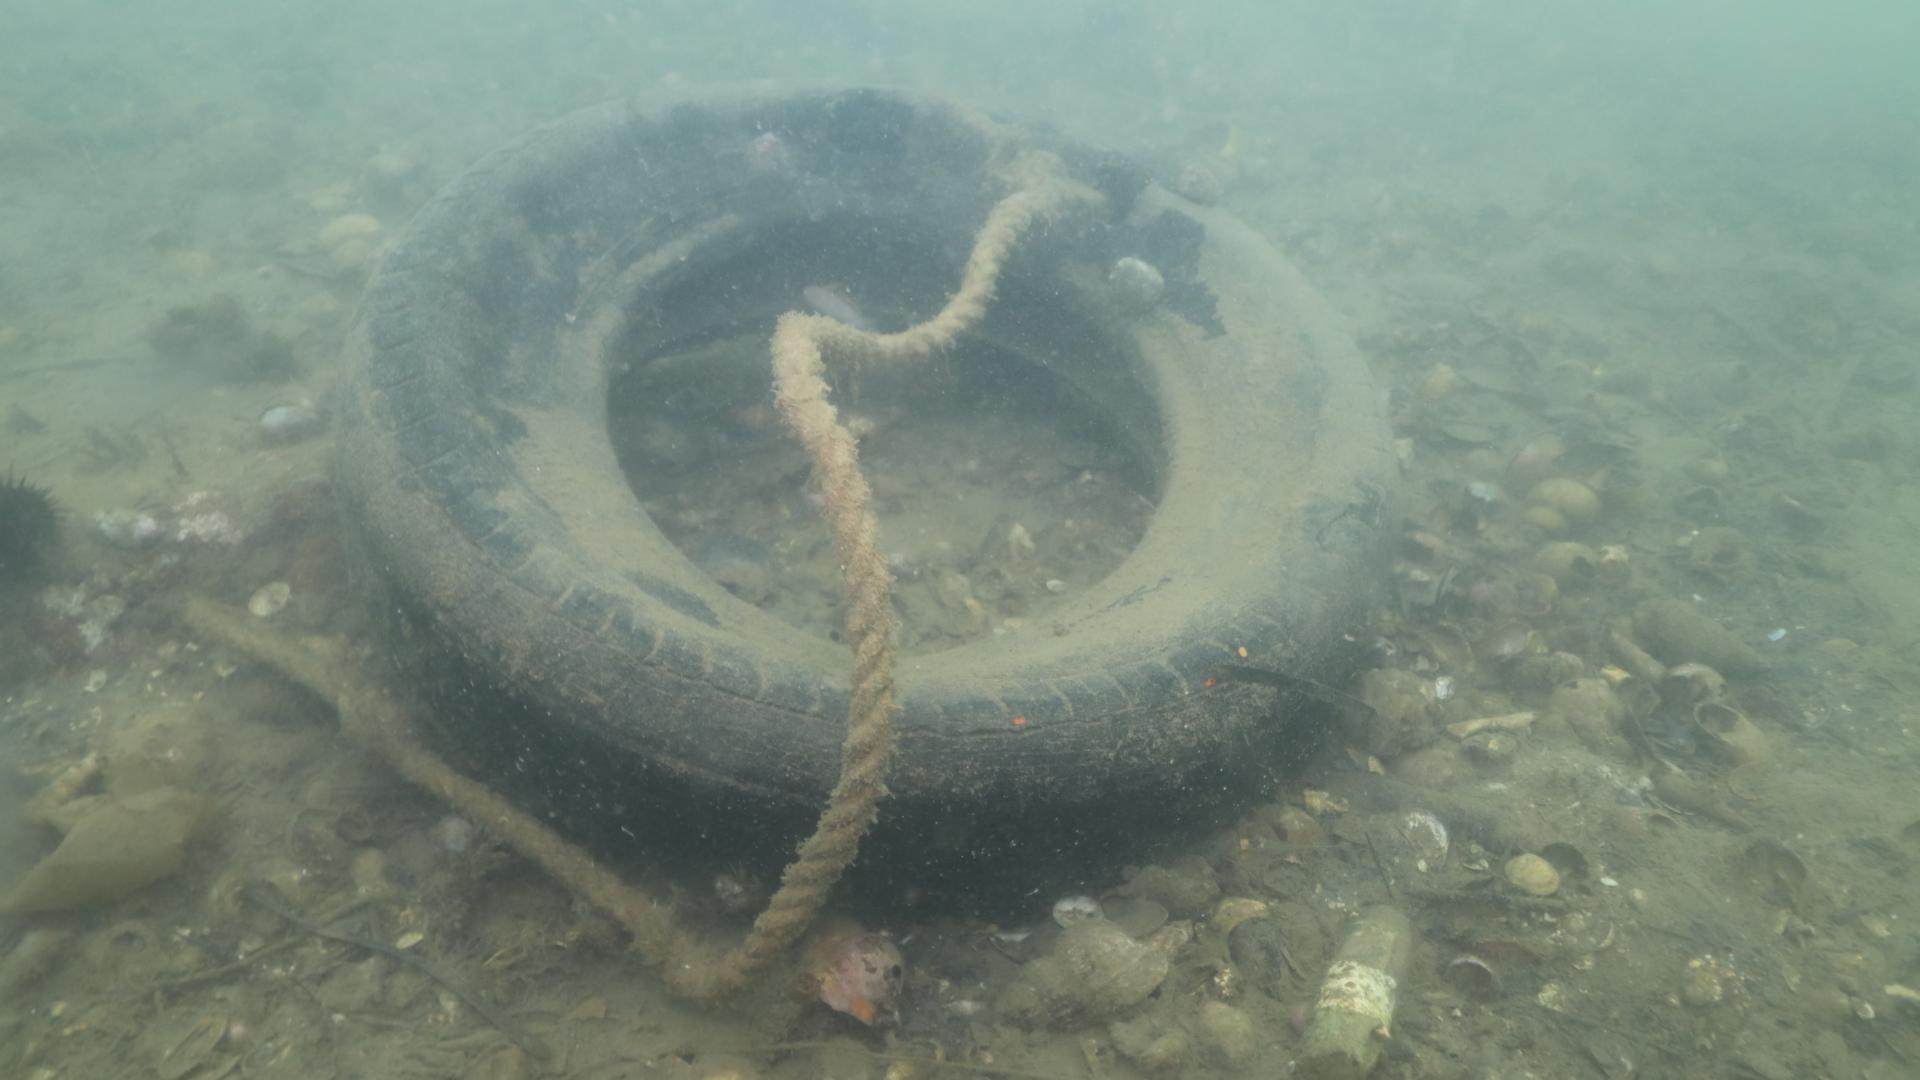rope: (177, 146, 1112, 1011)
tire: (330, 78, 1396, 909)
